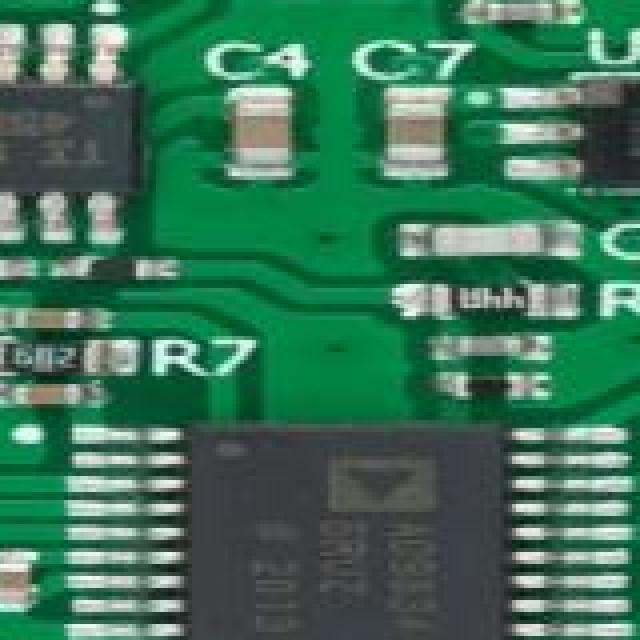IC: (144, 424, 548, 640), (0, 52, 136, 240), (540, 72, 640, 192)
capacitor: (236, 100, 314, 182), (436, 0, 568, 40), (380, 92, 444, 170), (428, 224, 594, 250), (12, 300, 106, 332), (8, 380, 86, 414), (448, 332, 556, 356), (0, 556, 40, 608)
resistor: (412, 276, 578, 318), (436, 364, 554, 398), (0, 340, 108, 372), (92, 0, 224, 4)
